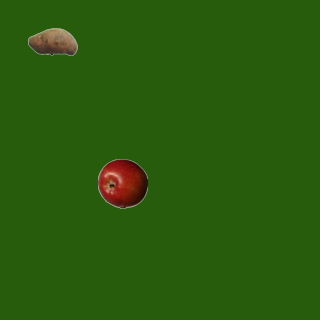Apple Braeburn: (97, 158, 147, 208)
Potato Sweet: (27, 16, 77, 66)
